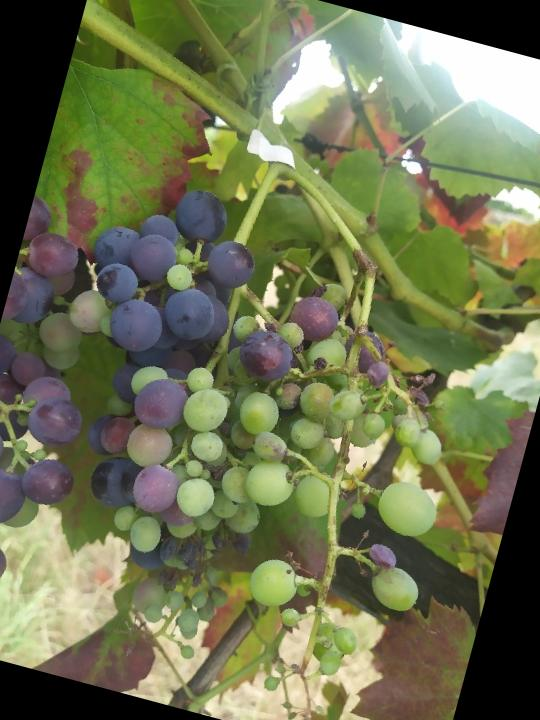grape: (7, 159, 345, 616), (193, 267, 497, 720)
